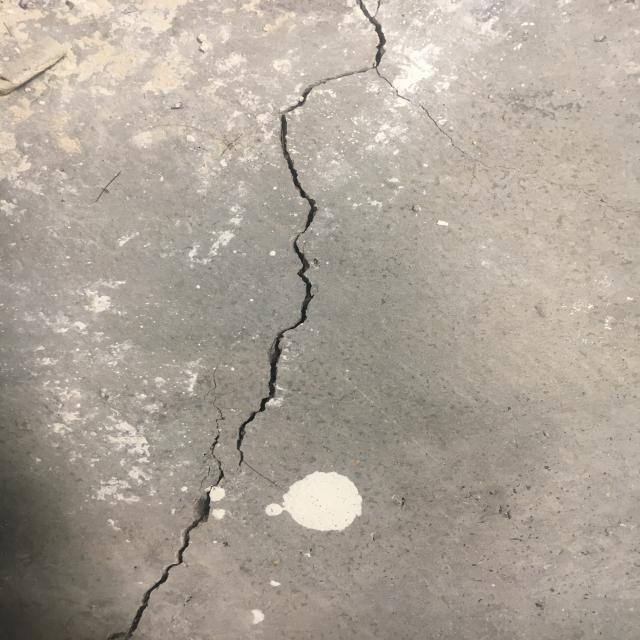SurfaceCrack: (69, 1, 366, 640)
